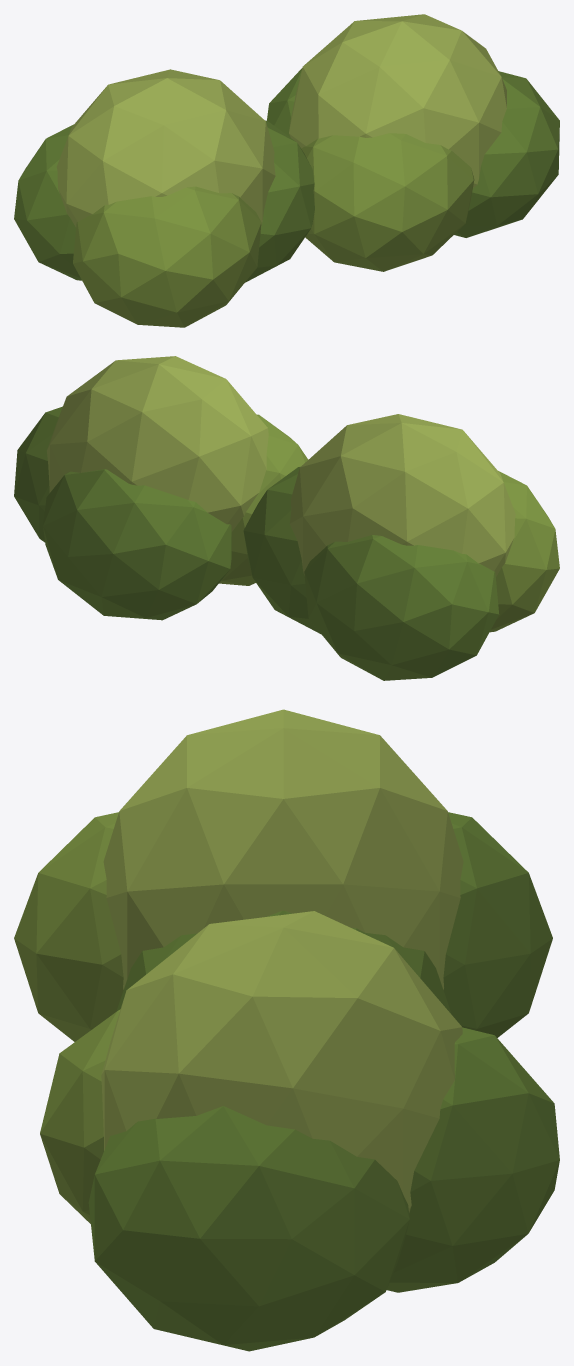
File: pile-lettuce-2.gltf
3 views of the same model, one above another, from view 1: azimuth 30°, elevation 25°; view 2: azimuth 150°, elevation 25°; view 3: azimuth 270°, elevation 25° (orthographic). The views are drawn at different scales.
Parts seen in each view (by area): view 1: pile-lettuce-2; view 2: pile-lettuce-2; view 3: pile-lettuce-2.
Boxes of the visible parts, box(x1,y1,x2,y2) form: pile-lettuce-2: box(14, 14, 559, 327); pile-lettuce-2: box(14, 356, 559, 680); pile-lettuce-2: box(14, 709, 559, 1351).
Bounding box in the file's own units: 0.575 × 0.2384 × 0.3252.
